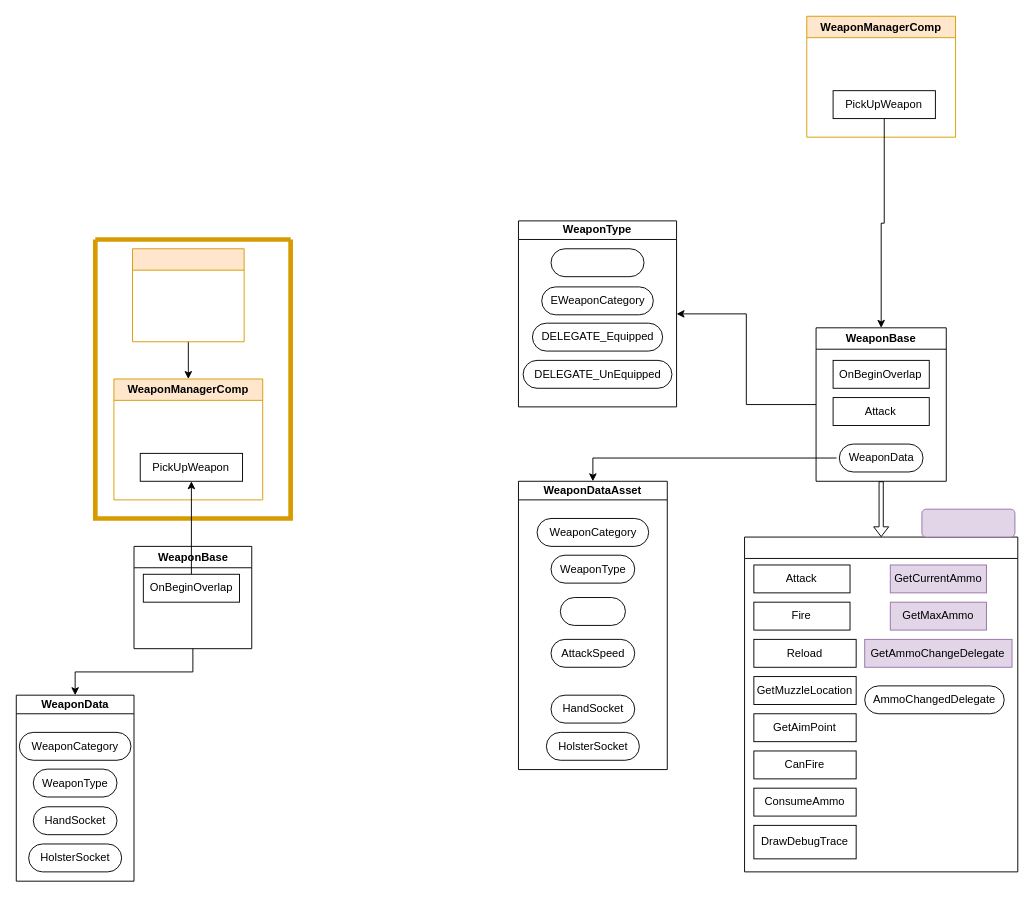
This 1034x897 diagram has some shape labels left out. The shapes that lost their labels are listed below. From the top down, each one's box as (x1, y1, x2, y2) in pixels, then its label:
(550, 248, 644, 277): EWeaponType
(132, 248, 244, 342): Character
(921, 508, 1015, 537): AmmoUIInterface
(559, 597, 625, 625): Damage
(744, 536, 1018, 872): RangedWeaponBase
